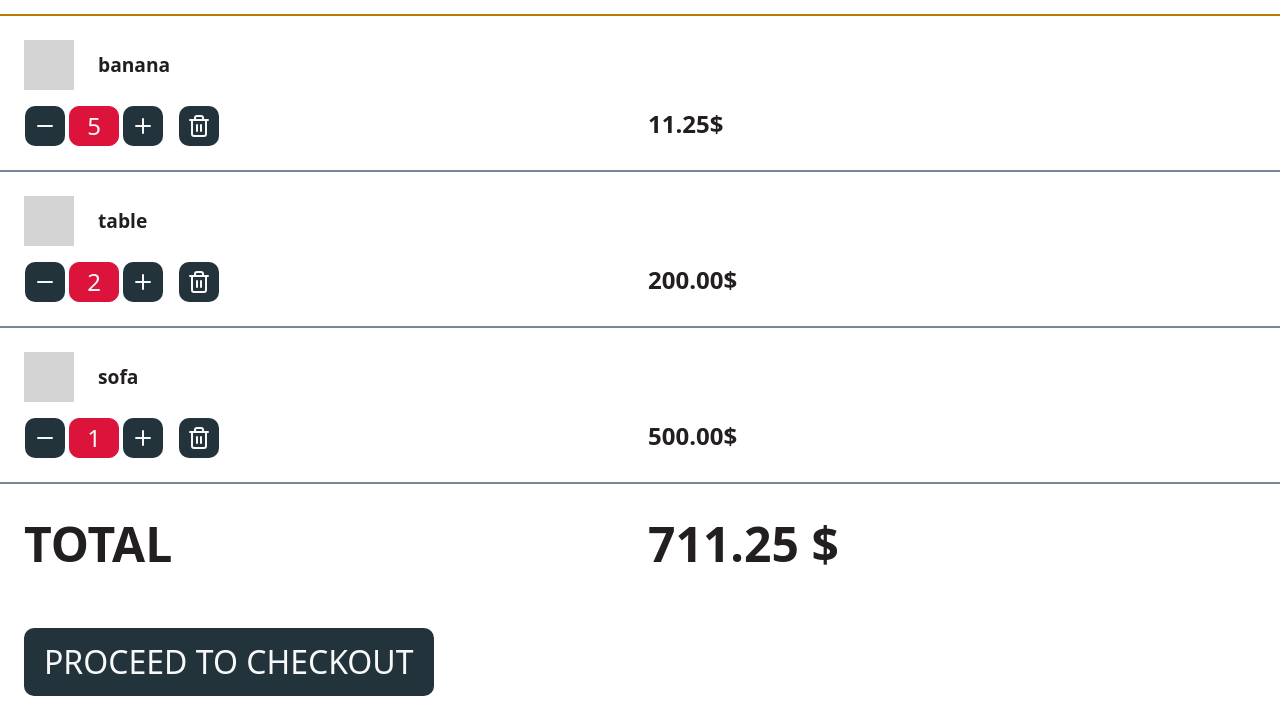
Scenario: OrderModal component › X button closes modal
The width and height of the screenshot is (1280, 720).
(page scrolled)
Click the button "PROCEED TO CHECKOUT" at (229, 662), box [24,628,434,696]
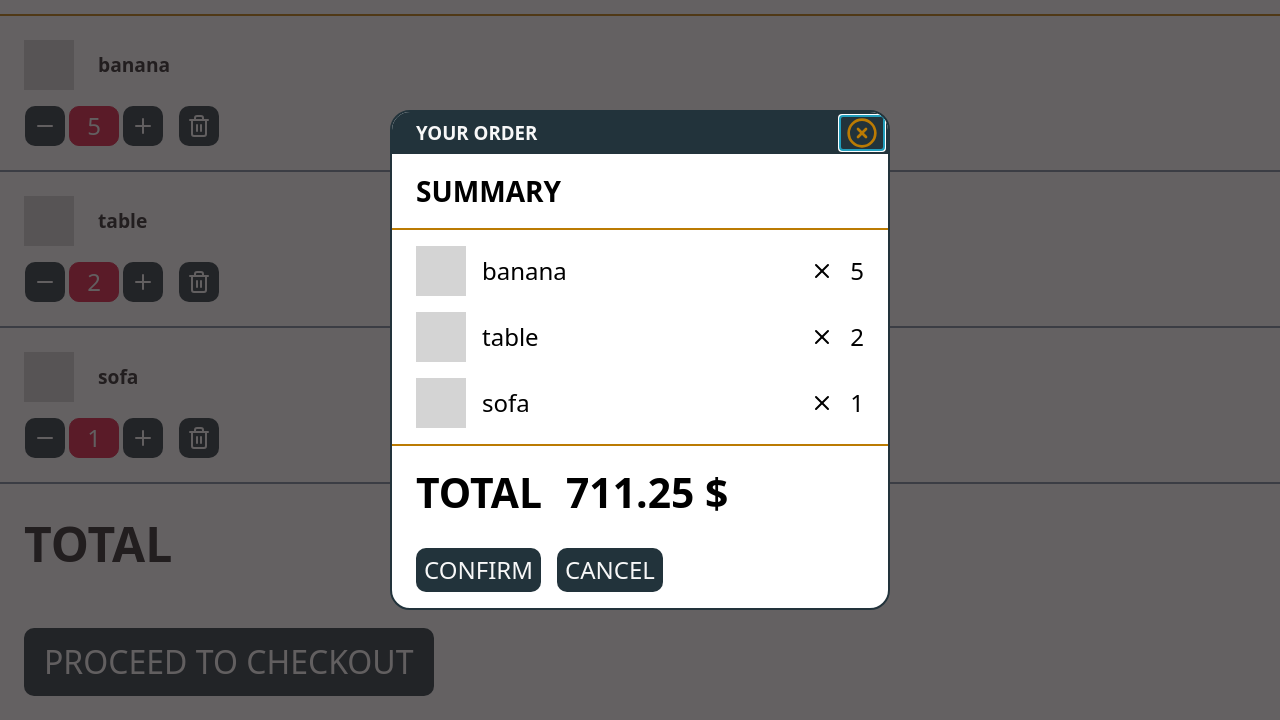
Click the button named "Cancel order" at (862, 133), box [840,116,884,150]
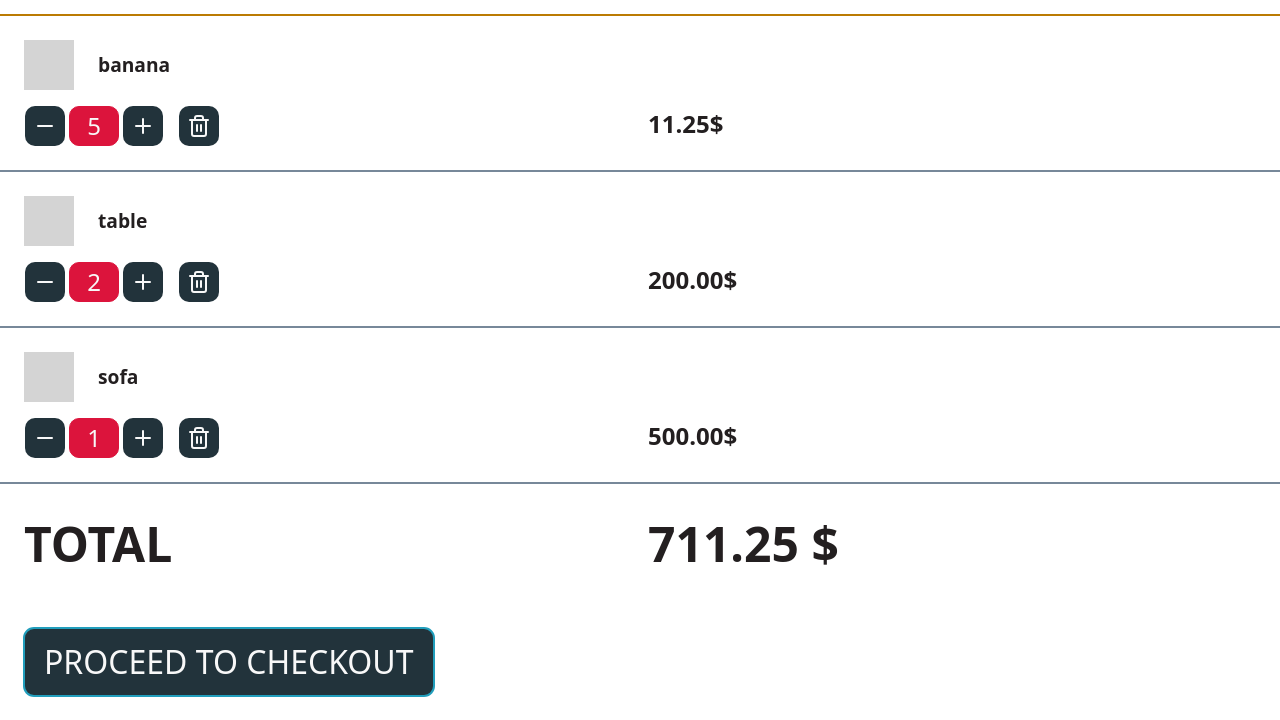
Expected: the button with test id "order" is gone
